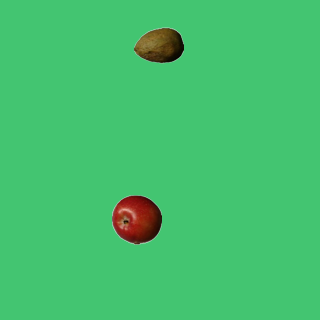Apple Braeburn: (111, 194, 161, 244)
Papaya: (133, 20, 183, 70)
